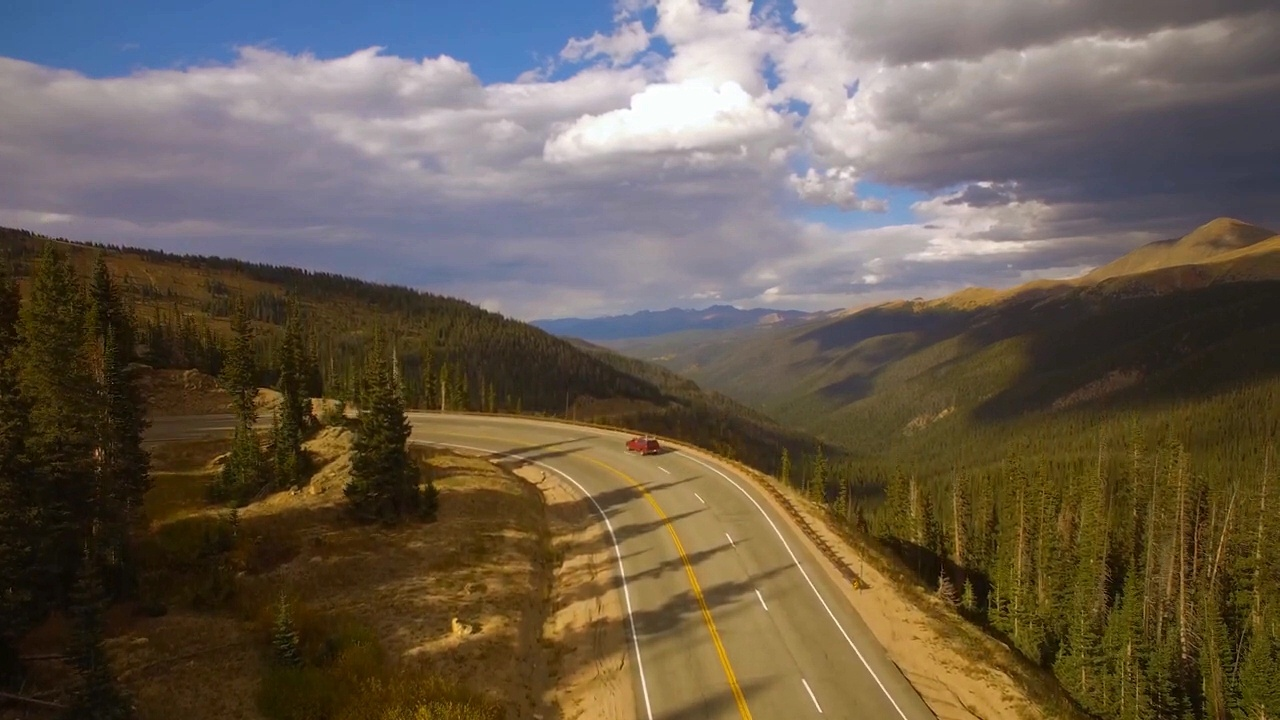araba: (624, 434, 659, 451)
